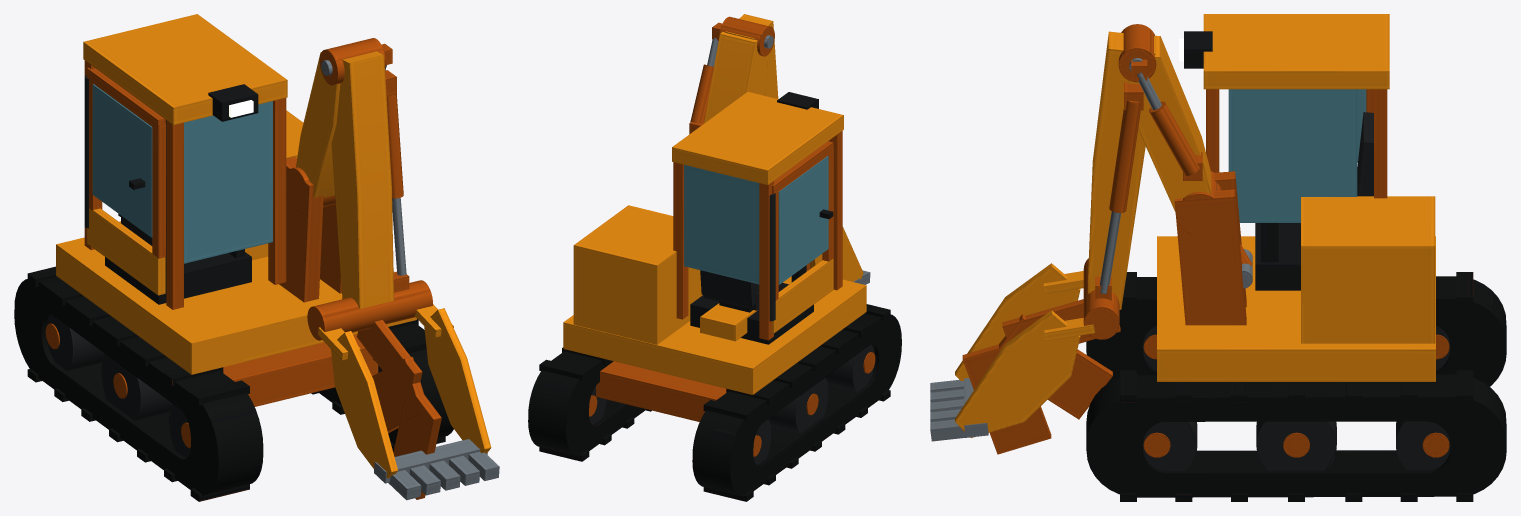
3 renders of one model, left to right at view 1: azimuth 30°, elevation 25°; view 2: azimuth 150°, elevation 25°; view 3: azimuth 270°, elevation 25°, orthographic. The views are drawn at different scales.
Bounding box in the file's own units: 1.64 × 2.61 × 3.22.
Materials: 1 (1 with a texture image).
